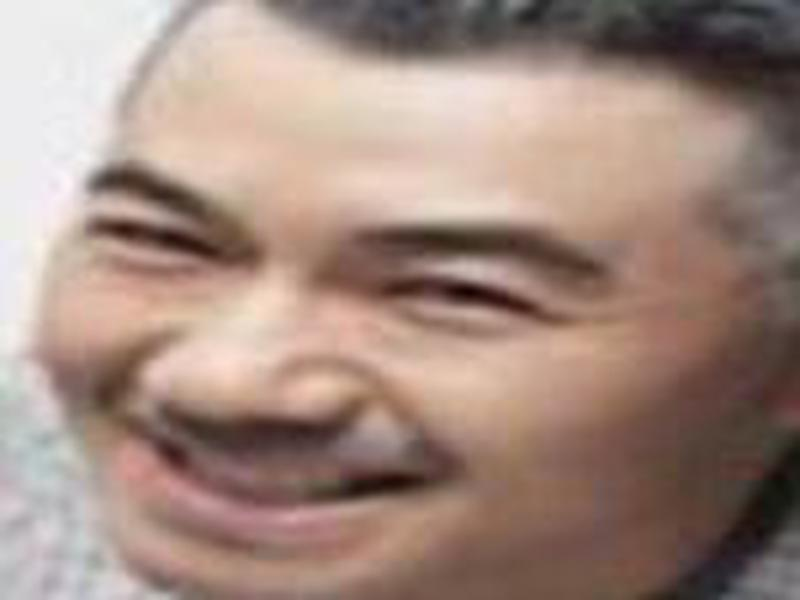without_mask: (34, 34, 714, 600)
